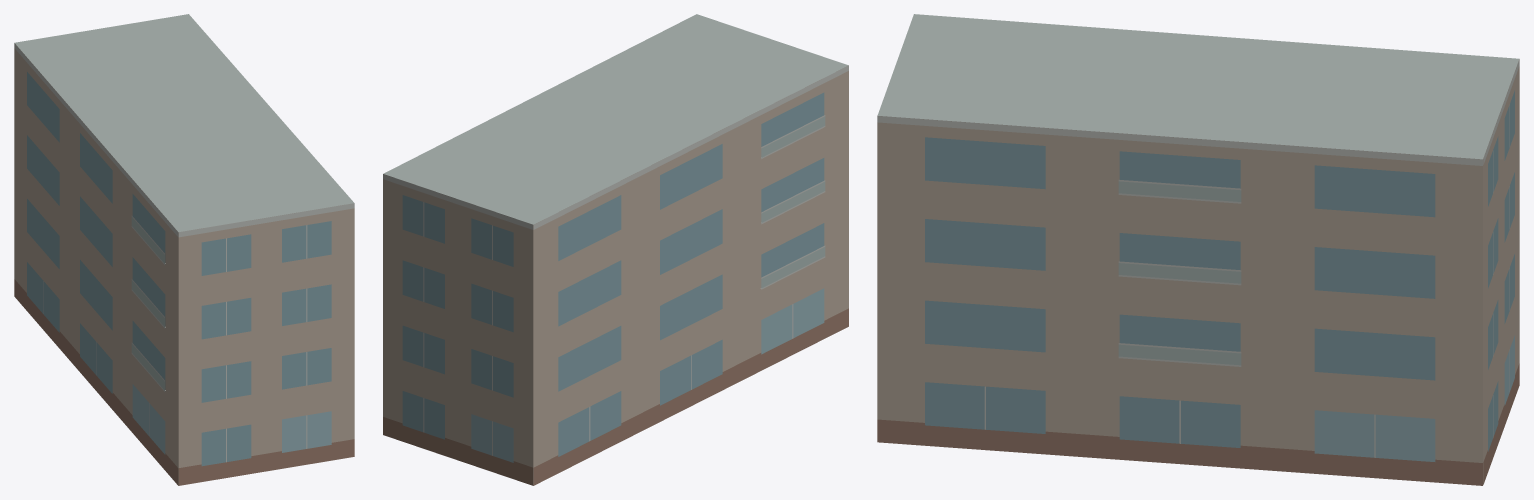
File: survey-upis-33030462.glb
3 renders of one model, left to right at view 1: azimuth 30°, elevation 25°; view 2: azimuth 150°, elevation 25°; view 3: azimuth 270°, elevation 25°, orthographic. The views are drawn at different scales.
Visible parts, largest first — view 1: survey-upis-33030462.tmp; view 2: survey-upis-33030462.tmp; view 3: survey-upis-33030462.tmp.
Part boxes in pixels (x1,y1,x2,y2): survey-upis-33030462.tmp: (14,14,354,485); survey-upis-33030462.tmp: (383,14,848,485); survey-upis-33030462.tmp: (877,14,1519,485).
Bounding box in the file's own units: 11.36 × 11.89 × 21.2.
